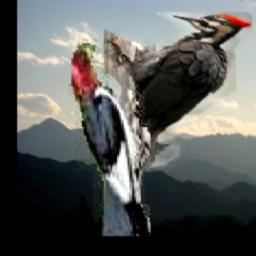Woodpecker: (104, 12, 252, 172), (69, 39, 150, 236)
